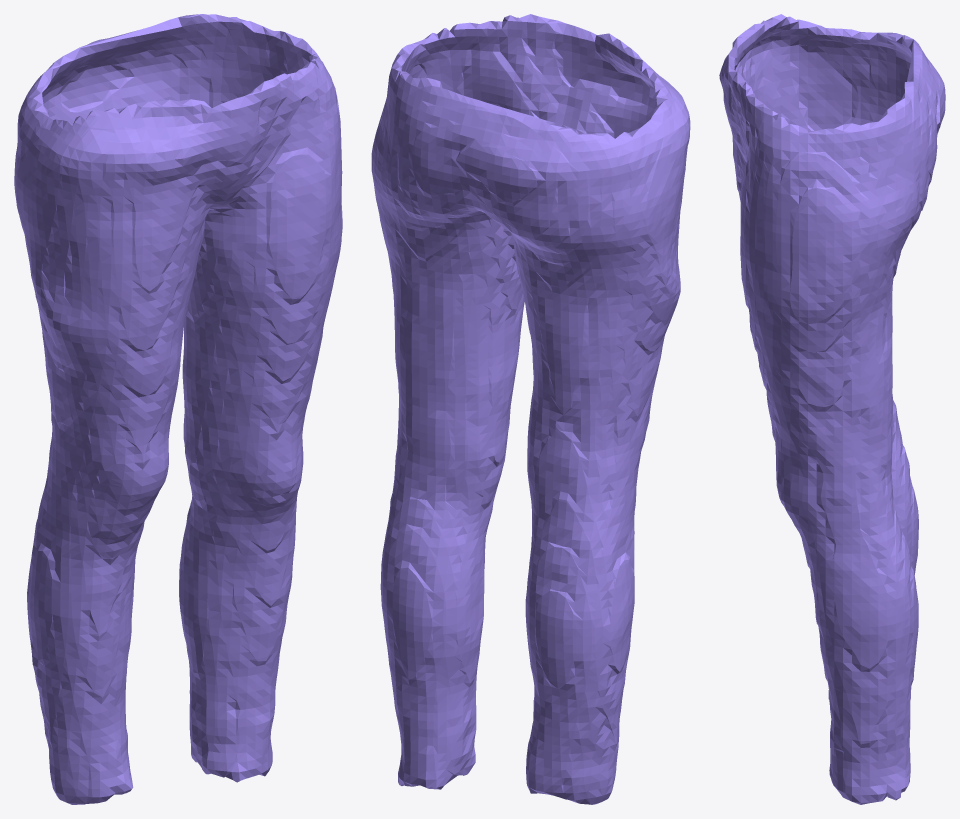
Rendered from pants_inflated2.glb.
3 renders of one model, left to right at view 1: azimuth 30°, elevation 25°; view 2: azimuth 150°, elevation 25°; view 3: azimuth 270°, elevation 25°, orthographic. The views are drawn at different scales.
Parts seen in each view (by area): view 1: 0010 inflated.ply; view 2: 0010 inflated.ply; view 3: 0010 inflated.ply.
Boxes of the visible parts, x1,y1,x2,y2 form: 0010 inflated.ply: (14, 14, 342, 804); 0010 inflated.ply: (371, 14, 690, 804); 0010 inflated.ply: (719, 14, 945, 804).
Bounding box in the file's own units: 0.576 × 1.39 × 0.4039.
